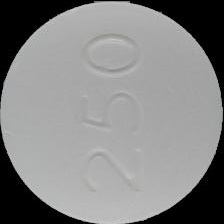43063-600: (0, 0, 224, 224)
